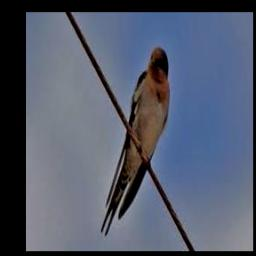Swallow: (101, 47, 171, 235)
